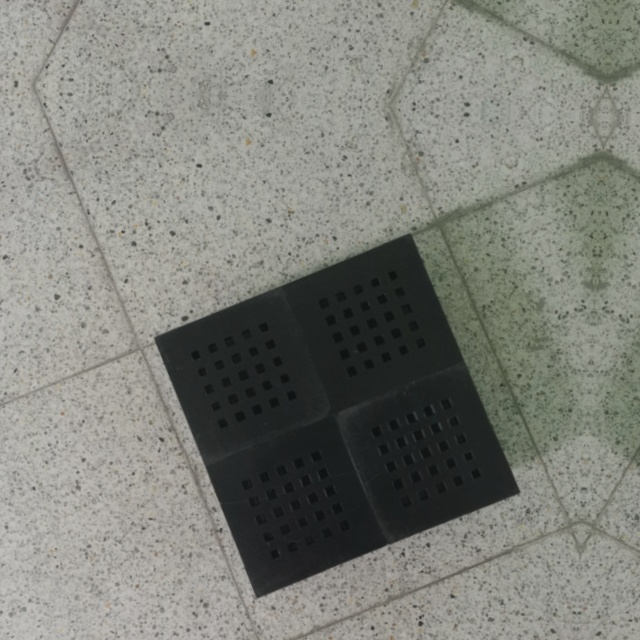pallet: (147, 218, 531, 615)
